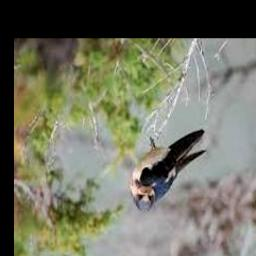Swallow: (131, 131, 207, 213)
